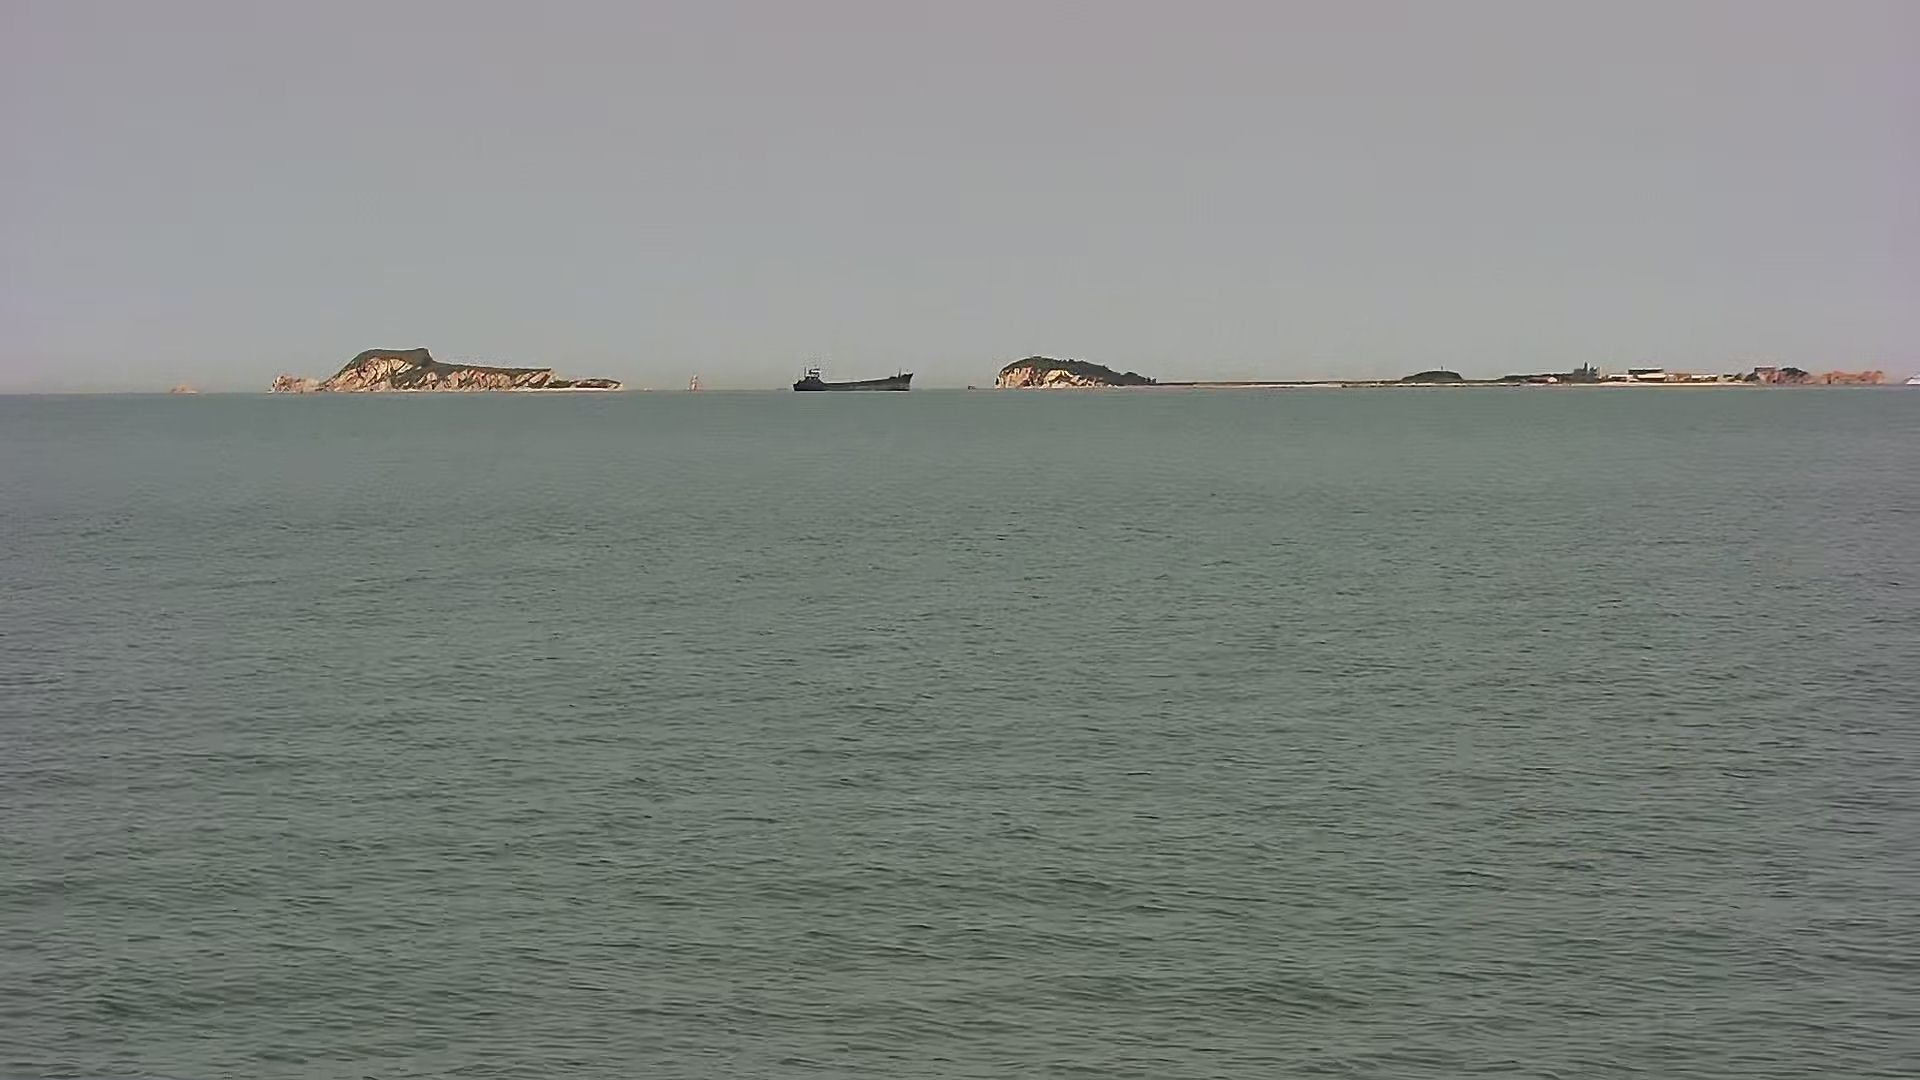rock: (256, 345, 618, 394), (996, 352, 1175, 396)
ship: (789, 357, 918, 394)
